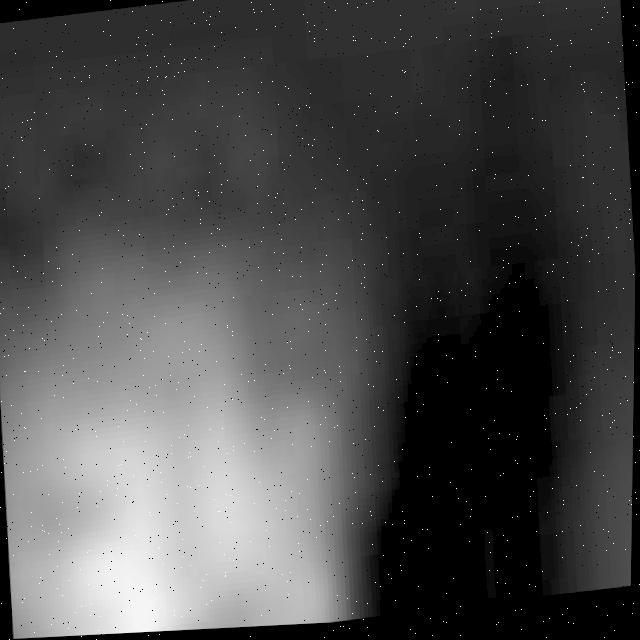person: (156, 239, 383, 634), (1, 326, 216, 640)
